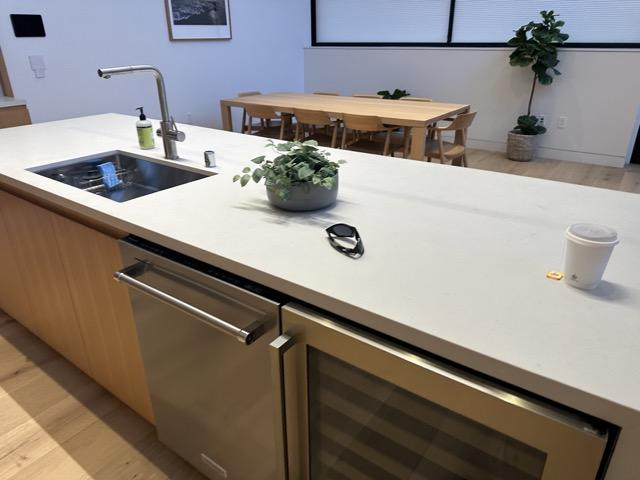Sunglasses: (323, 222, 365, 258)
